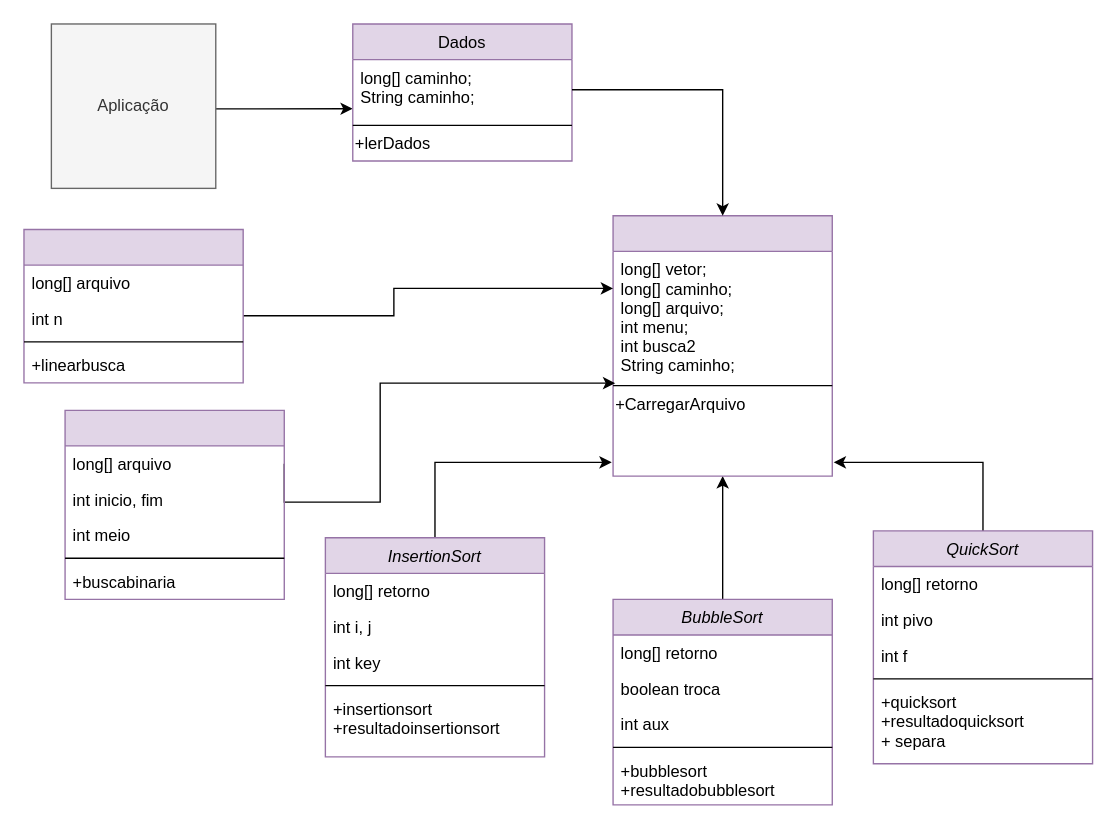
Image size: 1117x833. Some labels were removed from this diagram. Here are the shapes that lost their labels. From the top down, the box of each, then its label:
(23, 228, 243, 383): pesquisalinear
(612, 214, 832, 476): Ordena
(64, 409, 284, 599): pesquisabinaria
